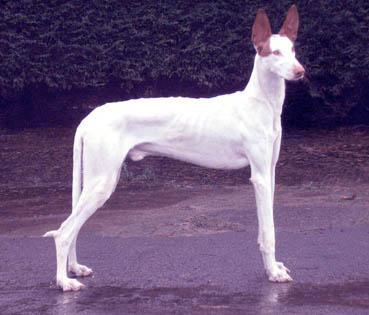Ibizan_hound: (42, 4, 305, 291)
